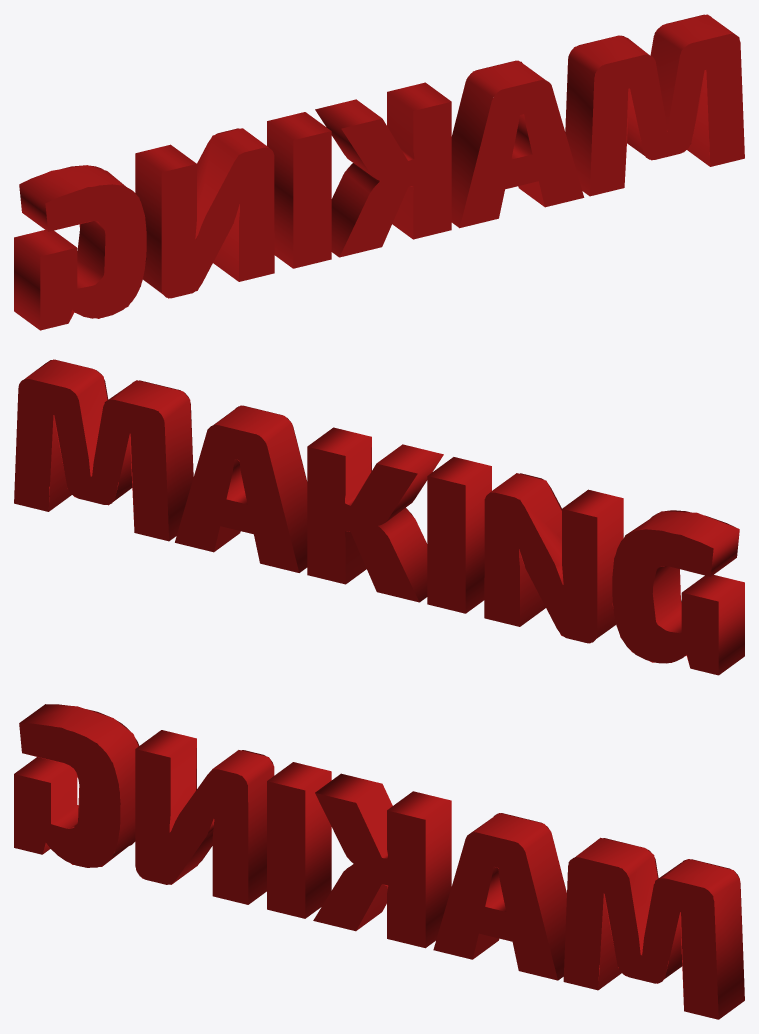
Rendered from making.fbx.
3 views of the same model, one above another, from view 1: azimuth 30°, elevation 25°; view 2: azimuth 150°, elevation 25°; view 3: azimuth 330°, elevation 25° (orthographic).
Parts seen in each view (by area): view 1: Text; view 2: Text; view 3: Text.
Boxes of the visible parts, x1,y1,x2,y2 form: Text: (14,14,744,330); Text: (14,359,744,675); Text: (14,704,744,1019).
Bounding box in the file's own units: 12.41 × 2.27 × 0.8.
